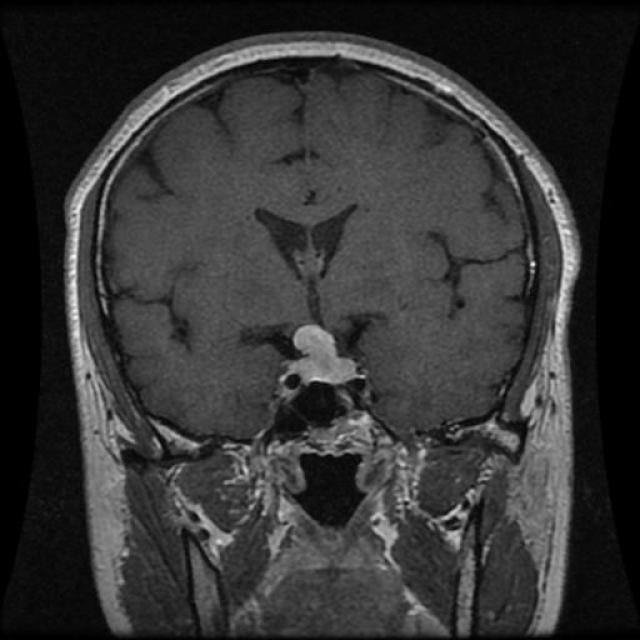pituitary: (271, 318, 371, 406)
